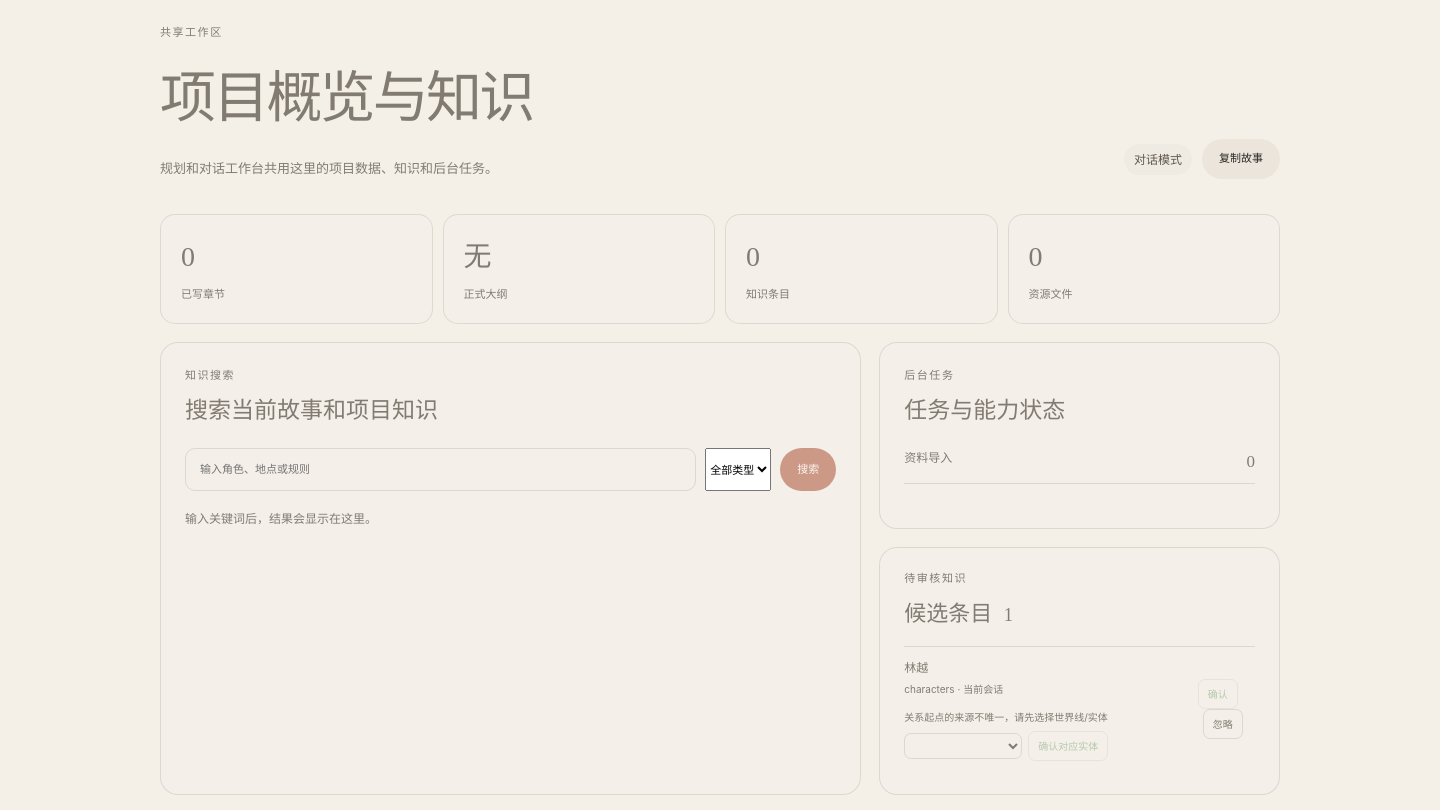
Scenario: 知识中心当前世界线交互 › 同名实体待确认时必须先选择来源，再允许正式确认
The width and height of the screenshot is (1440, 810).
Check: the button with class "confirm" showing "确认对应实体" is disabled, box [1028, 731, 1108, 761]
Select "林越 · 来源 世界 B" in the 2nd dropdown. click: (963,746)
box: [904, 733, 1022, 759]
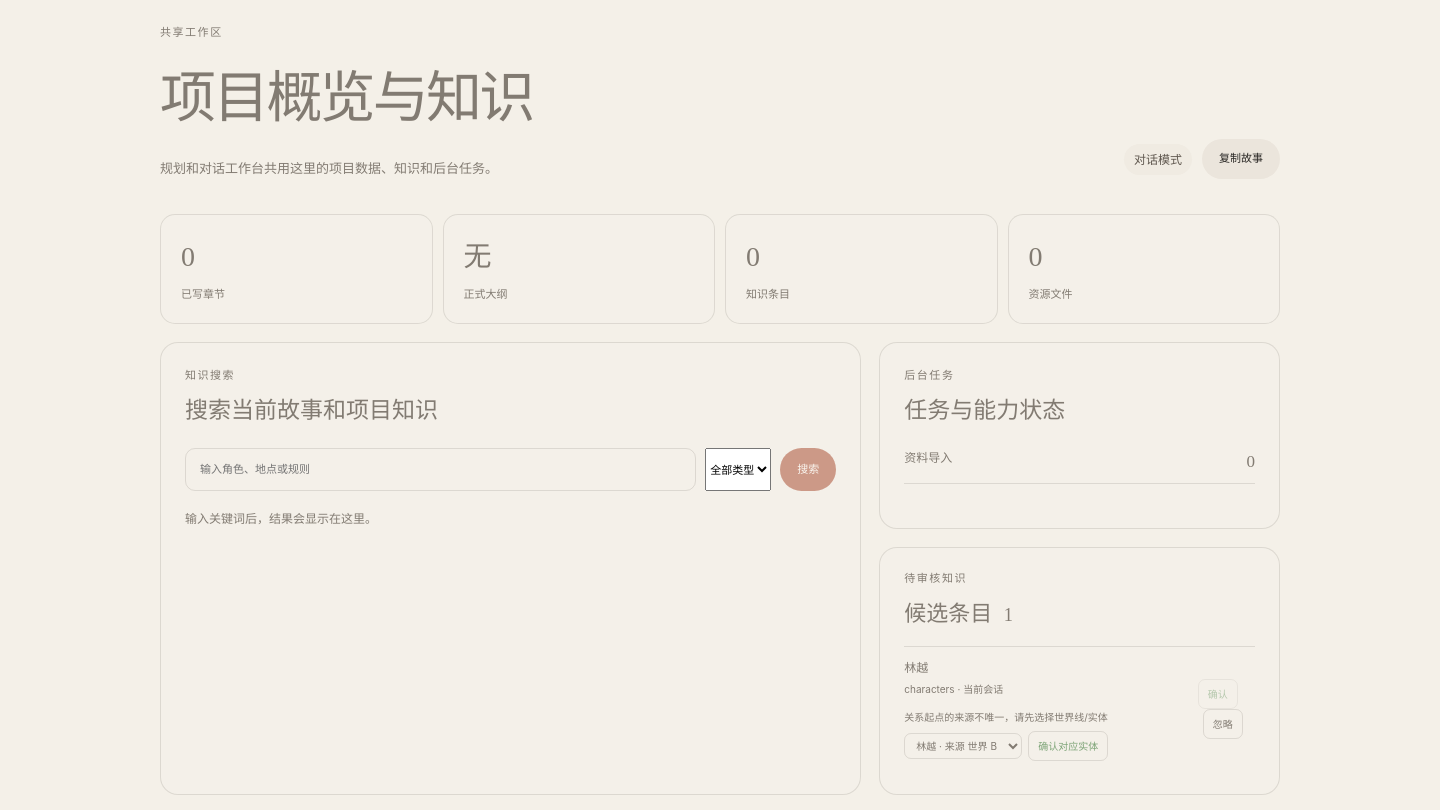
Check: the button with class "confirm" showing "确认对应实体" is enabled
Click the button with class "confirm" showing "确认对应实体". click: (1068,746)
box: [1028, 731, 1108, 761]
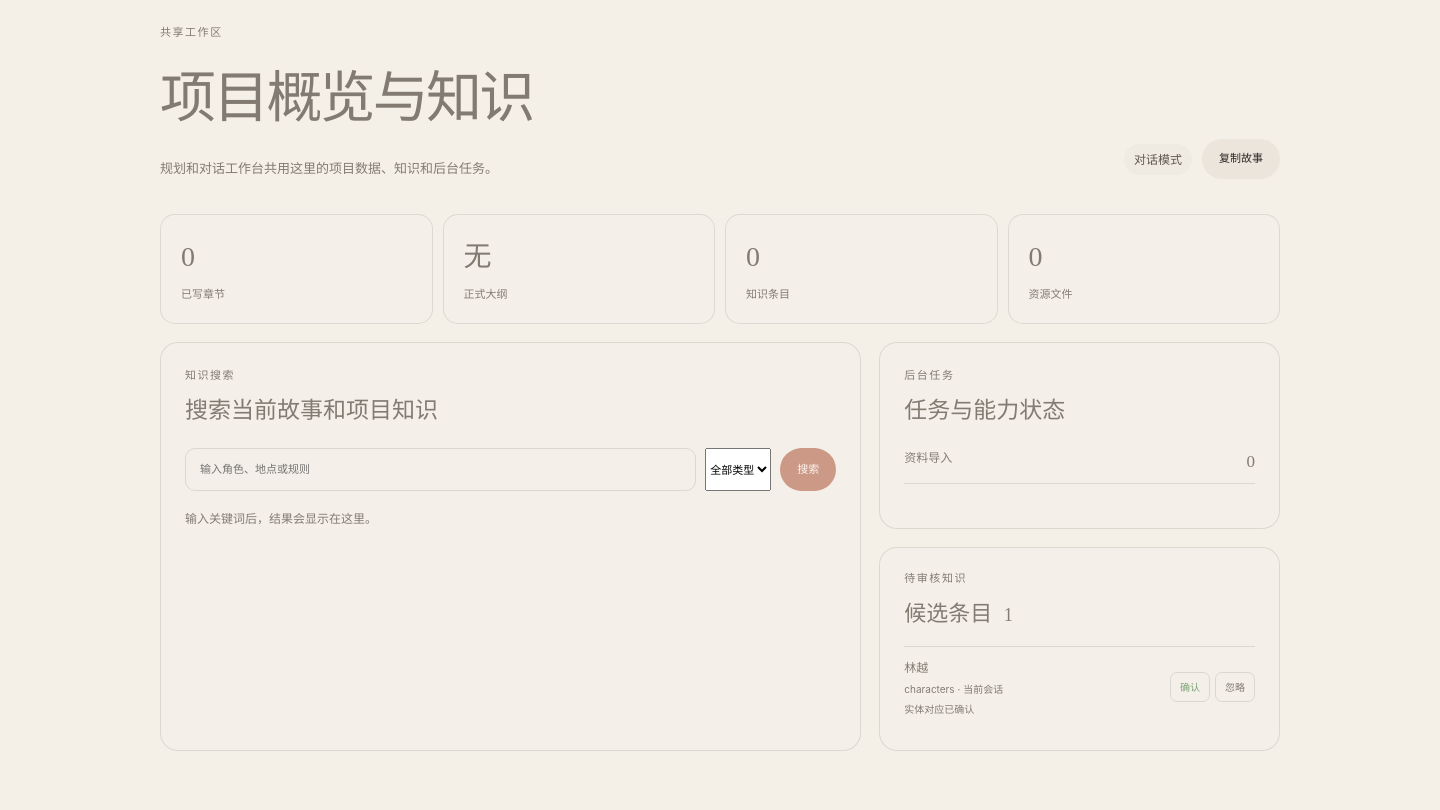
Check: the button with class "confirm" is enabled, box [1170, 672, 1210, 702]
